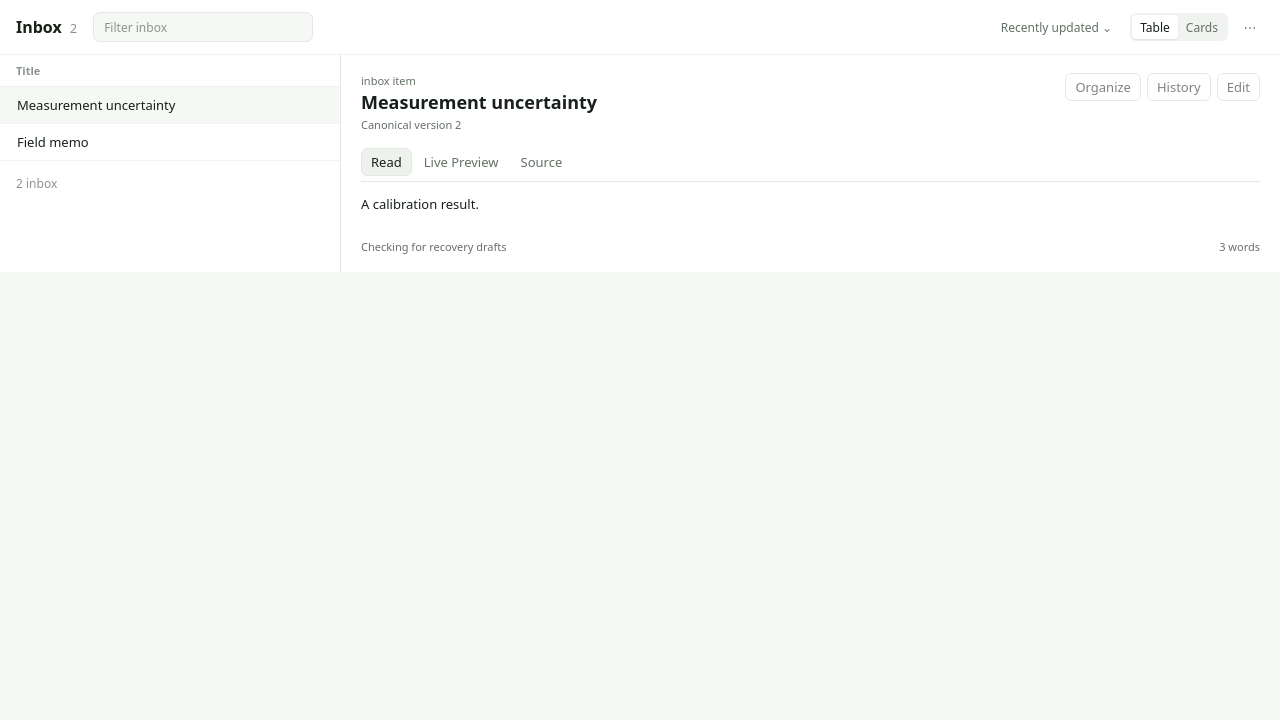
collection workbench › opens the same short object-action menu from a row context key and the object editor
Press F10 in the button with aria-label "Select Measurement uncertainty", box [0,87,340,123]
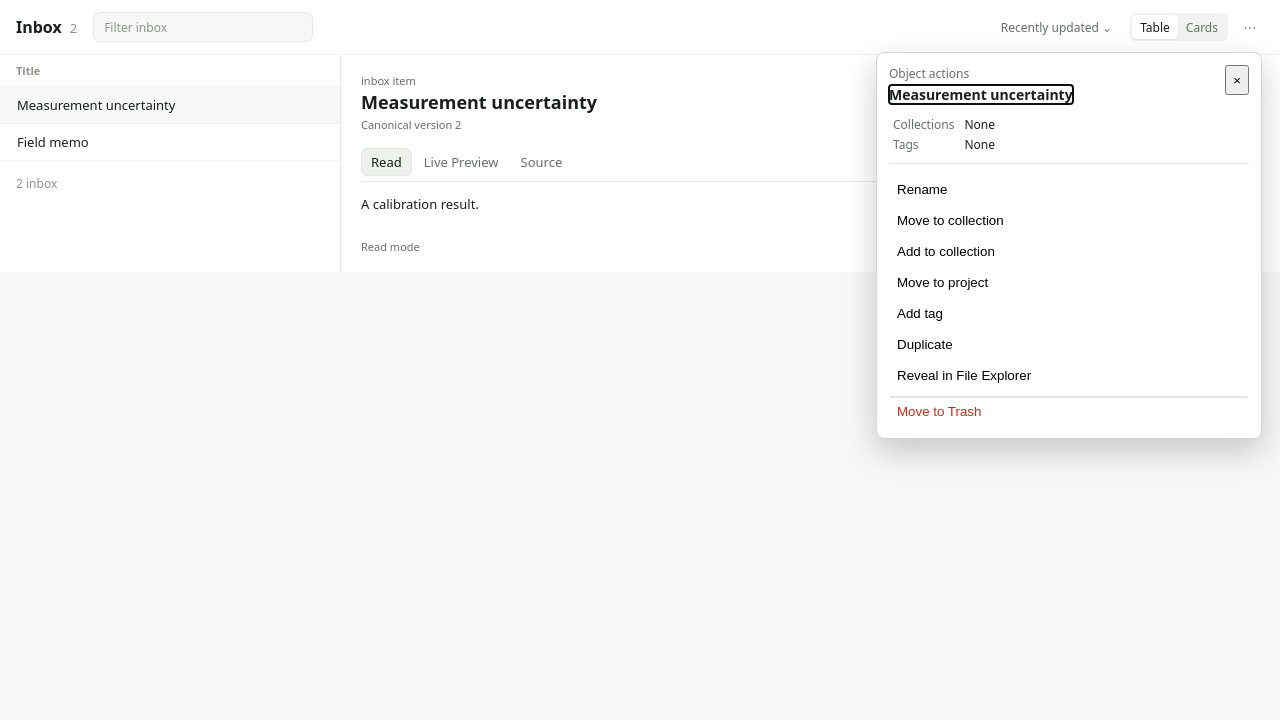
Now the menu named "Organize object" is shown, box [889,174,1249,426]
Click the button named "Close object actions" at {"x": 1237, "y": 80}, box [1225,65,1249,95]
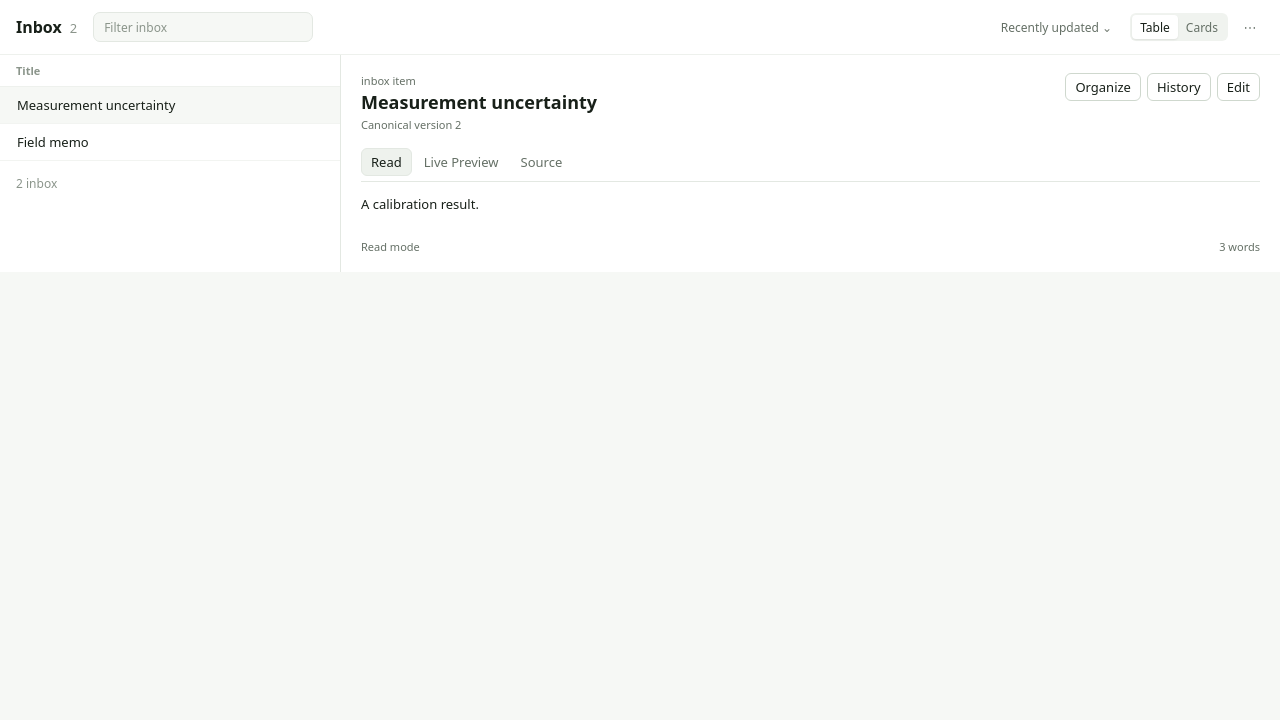
Click the button "Organize" at {"x": 1103, "y": 87}, box [1065,73,1141,101]
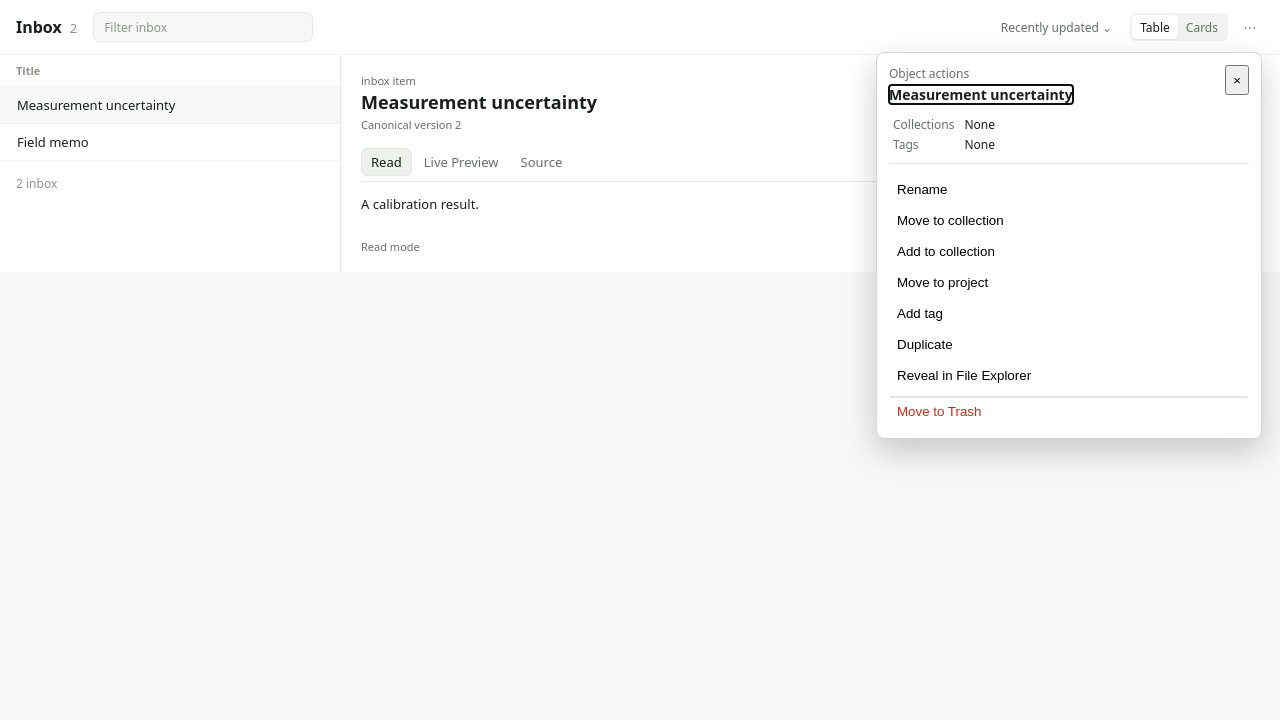
Now the menu named "Organize object" is shown, box [889,174,1249,426]
